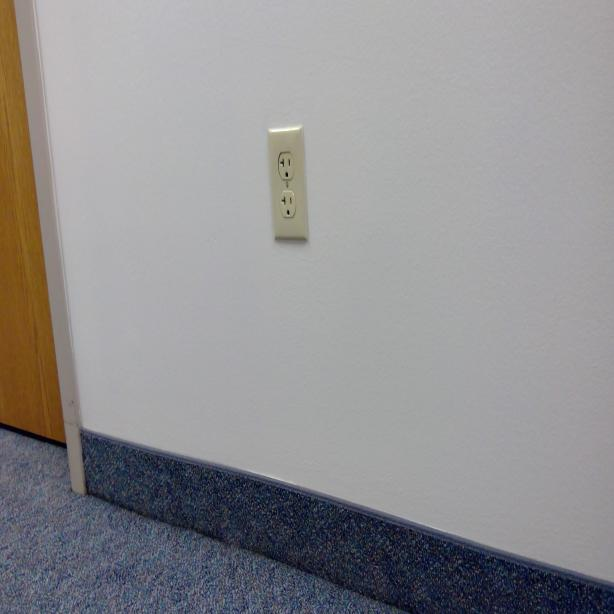typeb: (279, 192, 296, 222), (278, 150, 294, 180)
